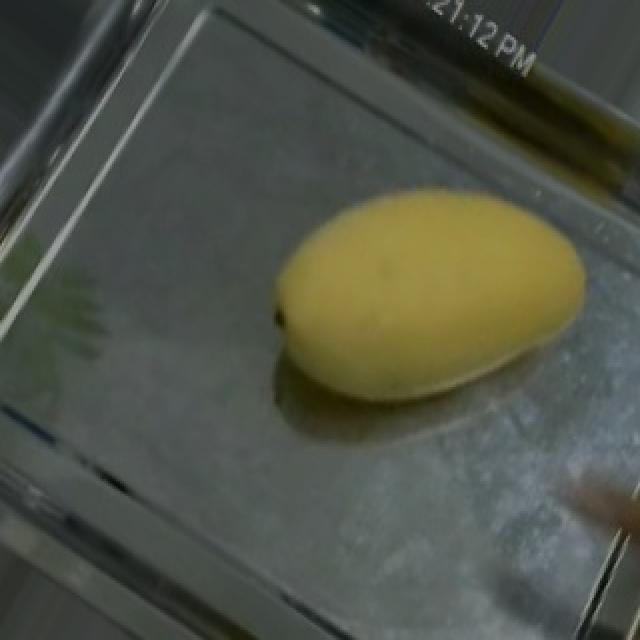fruit: (228, 112, 640, 466)
